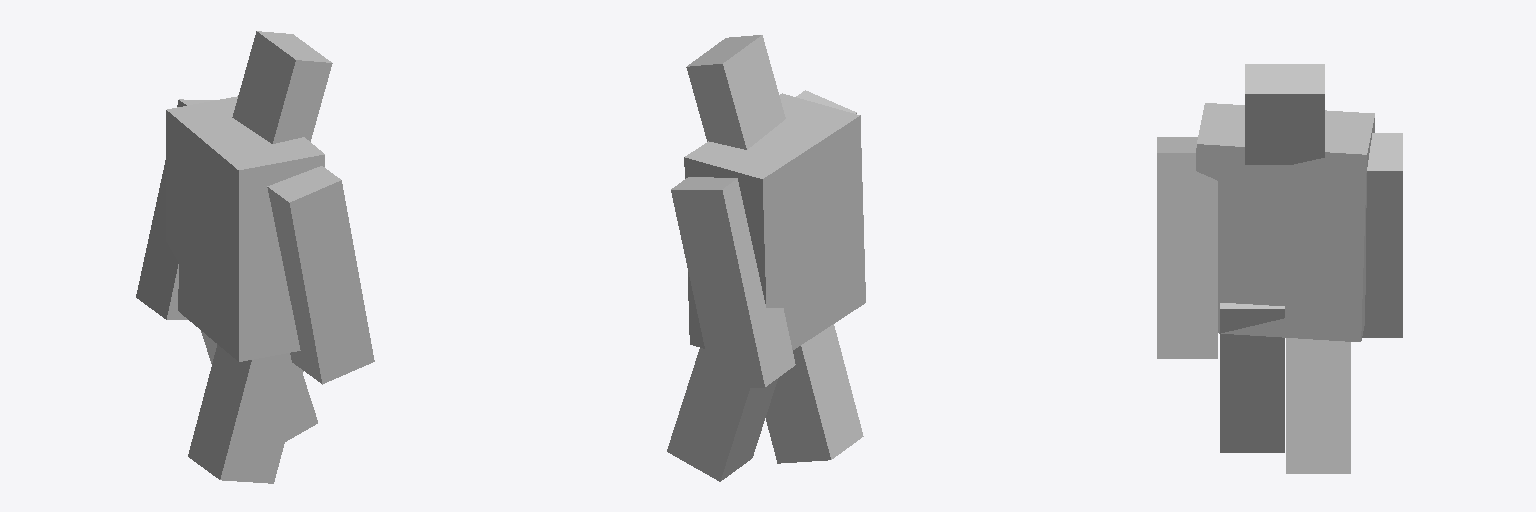
File: walk_000004.obj
The picture shows the model from 3 angles: view 1: azimuth 30°, elevation 25°; view 2: azimuth 150°, elevation 25°; view 3: azimuth 270°, elevation 25°; orthographic projection.
Parts seen in each view (by area): view 1: Cube, leg.002_Cube.006, leg.001_Cube.007, Cube.001_Cube.003, leg.003_Cube.002, leg_Cube.001; view 2: Cube, leg.003_Cube.002, leg.001_Cube.007, Cube.001_Cube.003, leg_Cube.001; view 3: Cube, leg.002_Cube.006, leg.001_Cube.007, leg_Cube.001, leg.003_Cube.002, Cube.001_Cube.003, Plane.002.
Boxes of the visible parts, x1=… form: Cube: x1=166, y1=96, x2=324, y2=361; leg.002_Cube.006: x1=267, y1=166, x2=374, y2=384; leg.001_Cube.007: x1=188, y1=344, x2=303, y2=483; Cube.001_Cube.003: x1=232, y1=31, x2=332, y2=143; leg.003_Cube.002: x1=136, y1=99, x2=214, y2=319; leg_Cube.001: x1=201, y1=331, x2=317, y2=441; Cube: x1=684, y1=93, x2=865, y2=349; leg.003_Cube.002: x1=671, y1=177, x2=795, y2=387; leg.001_Cube.007: x1=766, y1=324, x2=863, y2=463; Cube.001_Cube.003: x1=686, y1=35, x2=785, y2=149; leg_Cube.001: x1=667, y1=348, x2=777, y2=481; Cube: x1=1196, y1=103, x2=1374, y2=341; leg.002_Cube.006: x1=1157, y1=137, x2=1217, y2=358; leg.001_Cube.007: x1=1220, y1=303, x2=1284, y2=452; leg_Cube.001: x1=1286, y1=338, x2=1350, y2=473; leg.003_Cube.002: x1=1362, y1=133, x2=1402, y2=337; Cube.001_Cube.003: x1=1245, y1=64, x2=1324, y2=164; Plane.002: x1=1260, y1=134, x2=1310, y2=158.
Bounding box in the file's own units: 2.14 × 6.32 × 3.47.